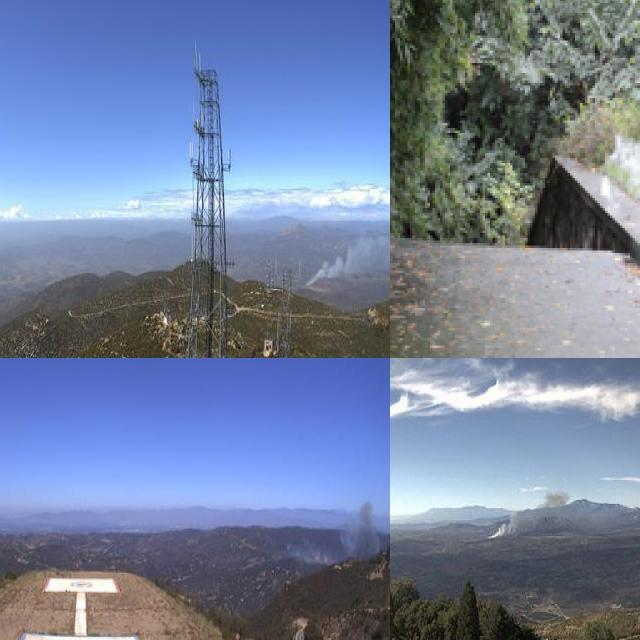smoke: (263, 492, 385, 576), (298, 226, 390, 290), (480, 485, 575, 543), (597, 130, 640, 243)
